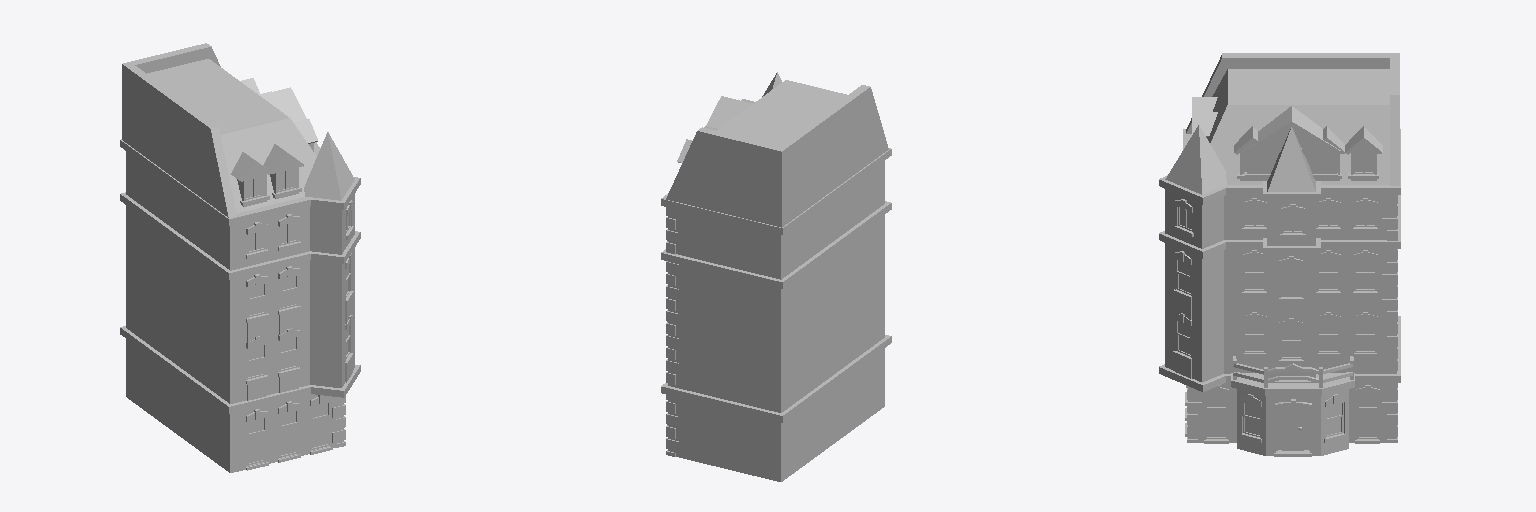
Rendered from House2.obj.
3 renders of one model, left to right at view 1: azimuth 30°, elevation 25°; view 2: azimuth 150°, elevation 25°; view 3: azimuth 270°, elevation 25°, orthographic.
Visible parts, largest first — view 1: House2:Cube_295; view 2: House2:Cube_295; view 3: House2:Cube_295.
Boxes of the visible parts, x1,y1,x2,y2 form: House2:Cube_295: [120, 43, 360, 472]; House2:Cube_295: [661, 72, 891, 481]; House2:Cube_295: [1159, 53, 1400, 456].
Size of the model in its own units: 8.09 by 17.08 by 11.29.